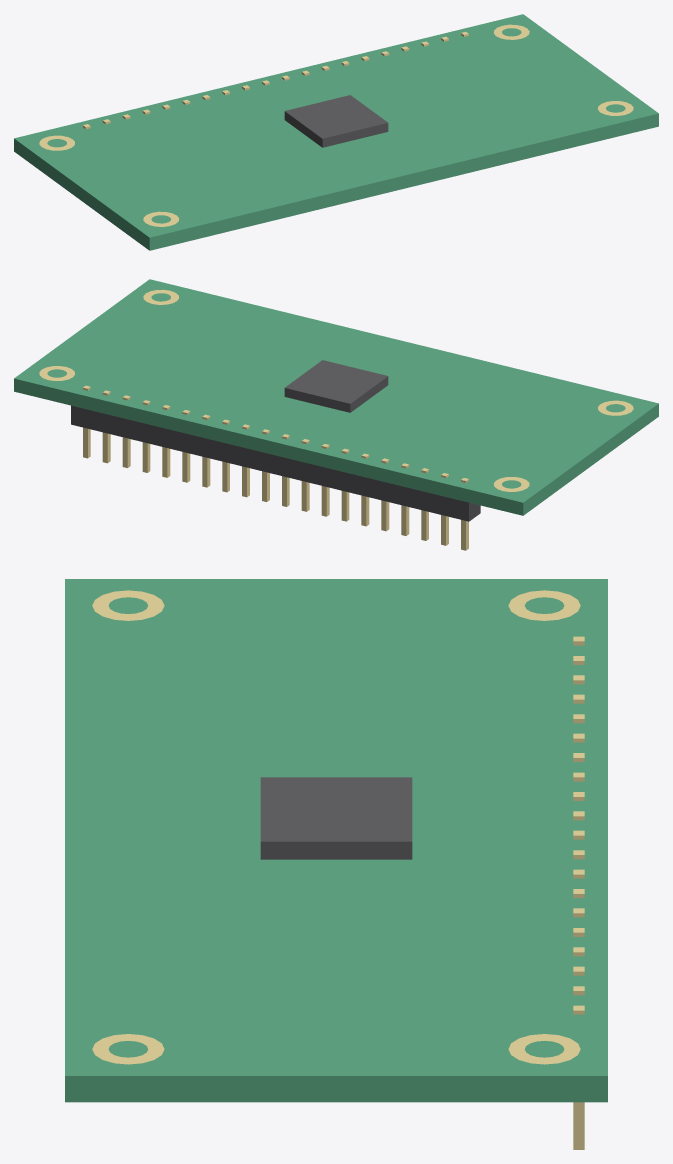
File: rpi-zero-2-w.glb
The picture shows the model from 3 angles, top to bottom: view 1: azimuth 30°, elevation 25°; view 2: azimuth 150°, elevation 25°; view 3: azimuth 270°, elevation 25°; orthographic projection. The views are drawn at different scales.
Parts seen in each view (by area): view 1: rpi-zero-2-w-pcb, rpi-zero-2-w-ic, rpi-zero-2-w-mounting-pads, rpi-zero-2-w-pins; view 2: rpi-zero-2-w-pcb, rpi-zero-2-w-plastic, rpi-zero-2-w-pins, rpi-zero-2-w-ic, rpi-zero-2-w-mounting-pads; view 3: rpi-zero-2-w-pcb, rpi-zero-2-w-ic, rpi-zero-2-w-mounting-pads, rpi-zero-2-w-pins.
Part boxes in pixels (bbox=[...]): rpi-zero-2-w-pcb: bbox=[14, 14, 658, 250]; rpi-zero-2-w-ic: bbox=[284, 95, 388, 147]; rpi-zero-2-w-mounting-pads: bbox=[39, 24, 633, 226]; rpi-zero-2-w-pins: bbox=[83, 32, 468, 129]; rpi-zero-2-w-pcb: bbox=[14, 279, 658, 515]; rpi-zero-2-w-plastic: bbox=[71, 405, 480, 521]; rpi-zero-2-w-pins: bbox=[83, 385, 468, 550]; rpi-zero-2-w-ic: bbox=[284, 360, 388, 412]; rpi-zero-2-w-mounting-pads: bbox=[39, 289, 633, 491]; rpi-zero-2-w-pcb: bbox=[65, 579, 607, 1102]; rpi-zero-2-w-ic: bbox=[260, 777, 412, 859]; rpi-zero-2-w-mounting-pads: bbox=[92, 590, 580, 1064]; rpi-zero-2-w-pins: bbox=[573, 636, 584, 1149].
Size of the model in its own units: 0.065 by 0.00935 by 0.03.
